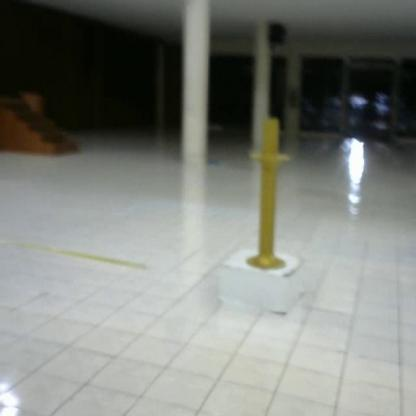pole: (245, 115, 294, 278)
